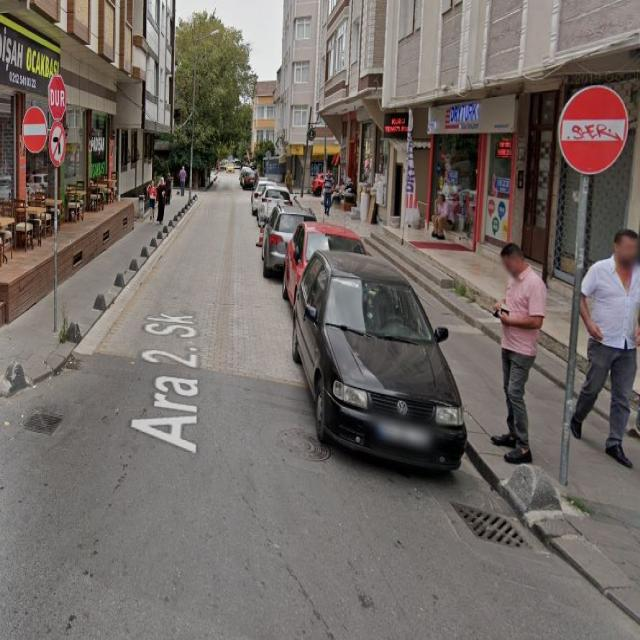dur: (48, 74, 66, 120)
girisyok: (558, 86, 629, 175), (22, 108, 47, 152)
soladonulmez: (49, 120, 66, 166)
